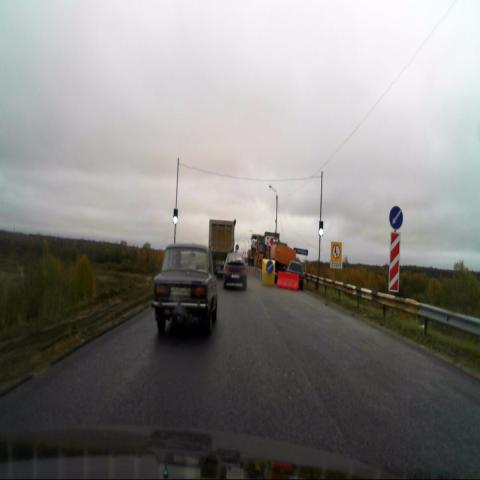4_2_2: (389, 206, 403, 230)
